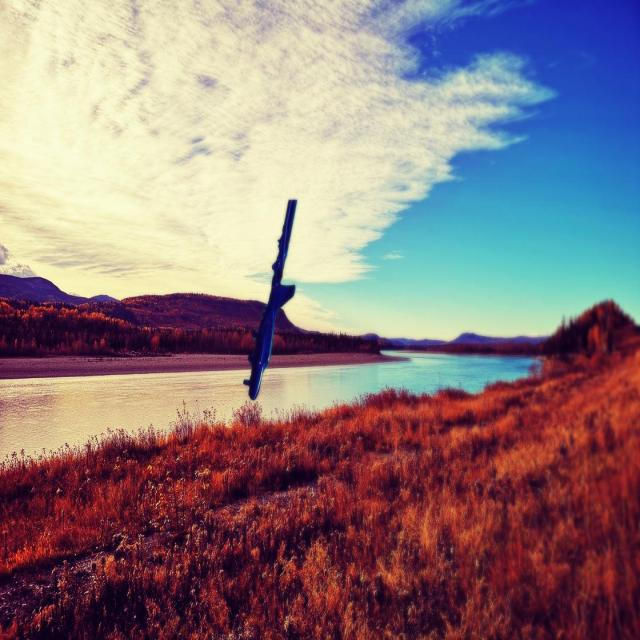airplane: (243, 197, 298, 400)
